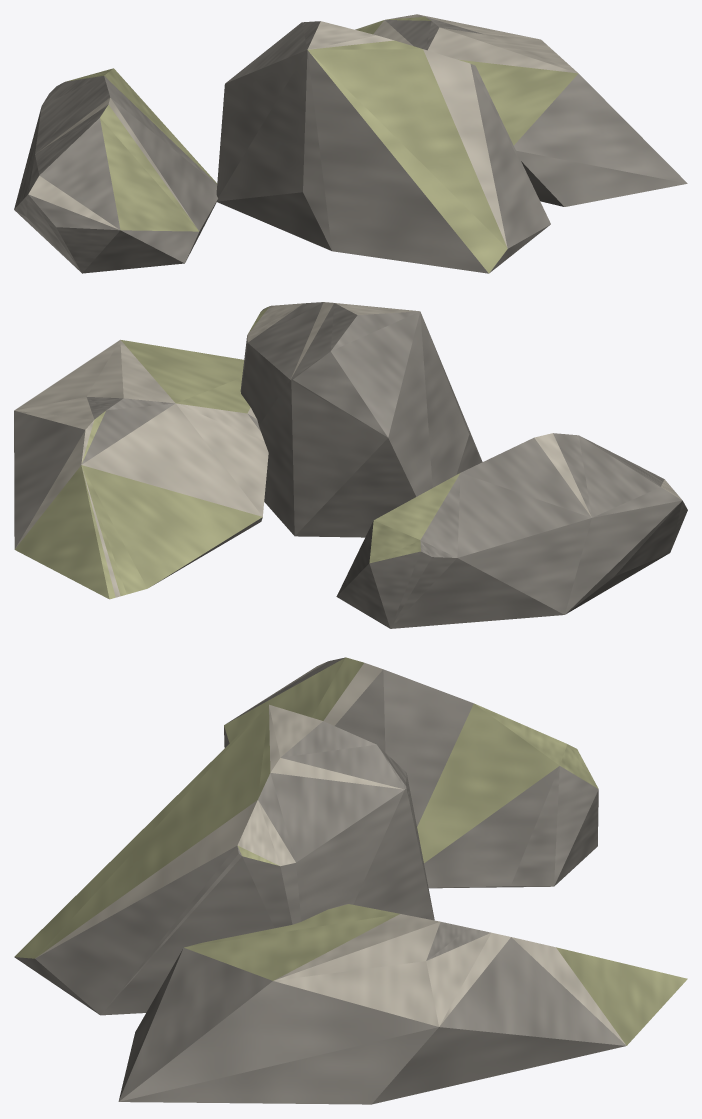
File: rock_pebble_set_01.fbx
The picture shows the model from 3 angles, top to bottom: view 1: azimuth 30°, elevation 25°; view 2: azimuth 150°, elevation 25°; view 3: azimuth 270°, elevation 25°; orthographic projection. The views are drawn at different scales.
Visible parts, largest first — view 1: rock_pebble_set_01; view 2: rock_pebble_set_01; view 3: rock_pebble_set_01.
Boxes of the visible parts, left/top/right/bottom form: rock_pebble_set_01: left=14, top=14, right=687, bottom=273; rock_pebble_set_01: left=14, top=302, right=687, bottom=628; rock_pebble_set_01: left=14, top=657, right=687, bottom=1104.
Size of the model in its own units: 0.3018 by 0.0846 by 0.2454.
